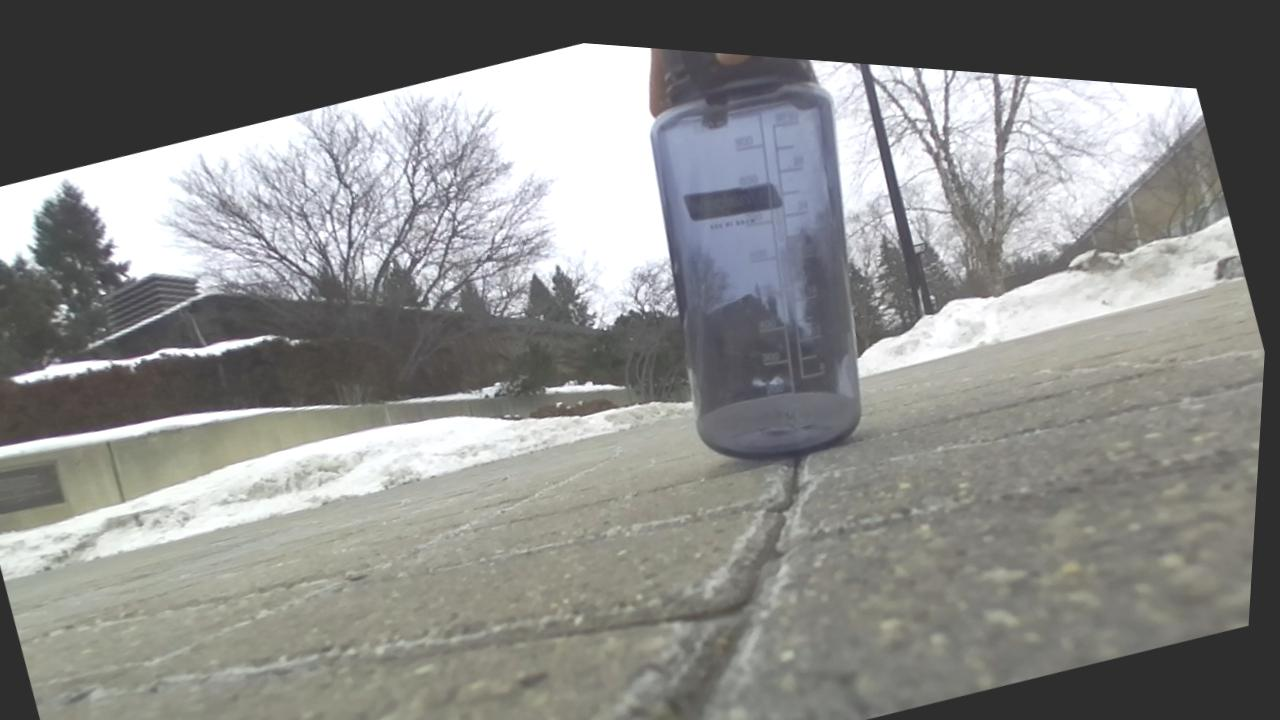bottle: (650, 48, 860, 457)
